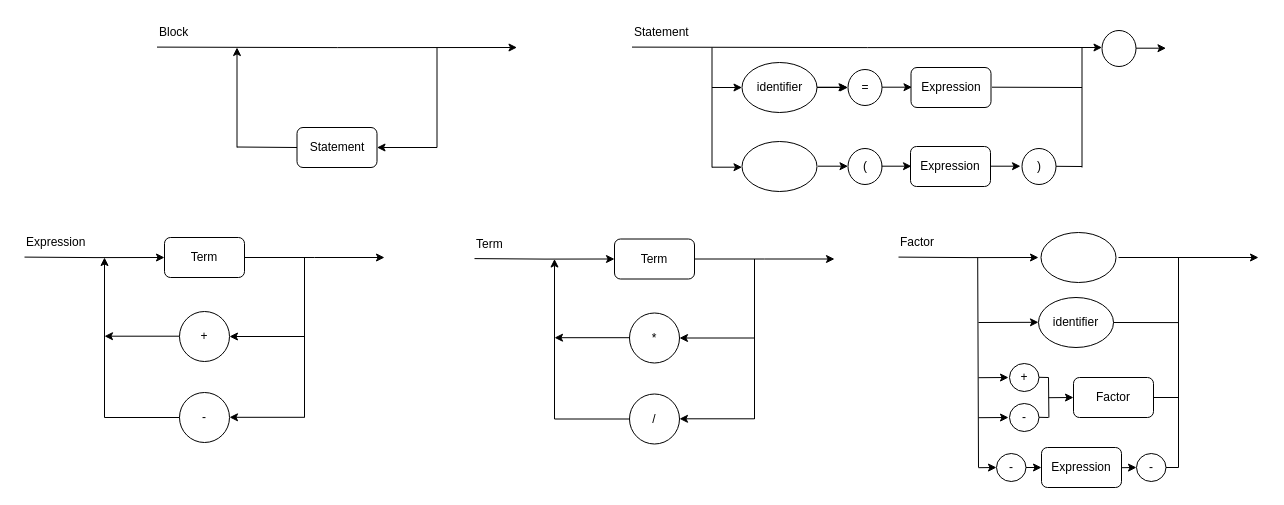
Some shapes in this 1284 by 505 pixel diagram are drawn without their labels. Each missing label, with the box of its shape:
\n: (1101, 30, 1136, 66)
number: (1040, 232, 1116, 282)
Print: (741, 140, 817, 192)
